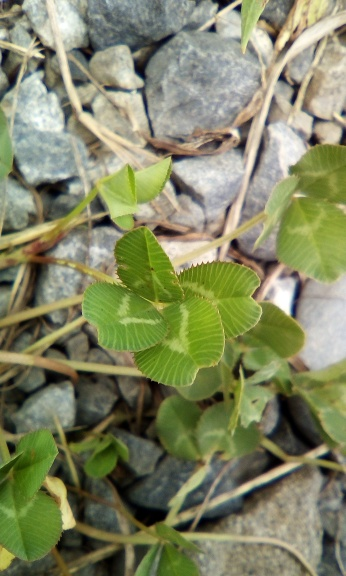4leaf: (79, 225, 264, 388)
